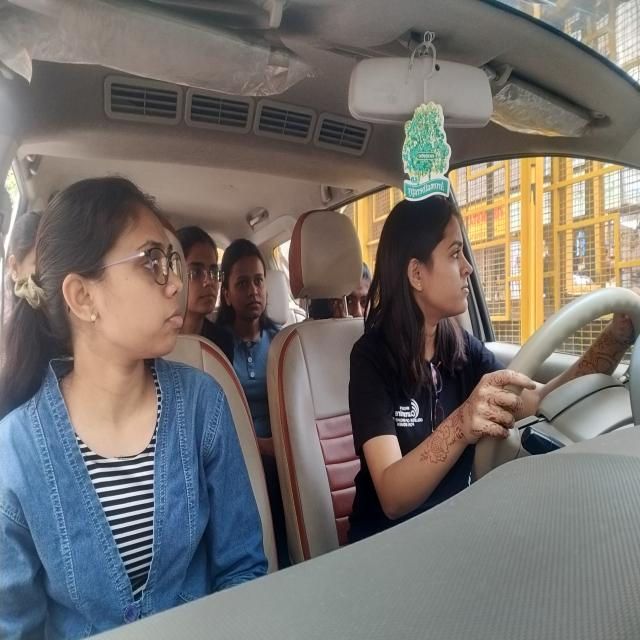LeftRight: (372, 172, 492, 349)
person: (20, 170, 192, 404), (174, 213, 228, 333), (220, 235, 279, 336)
